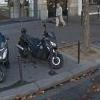Motorcycle: (13, 24, 68, 77)
